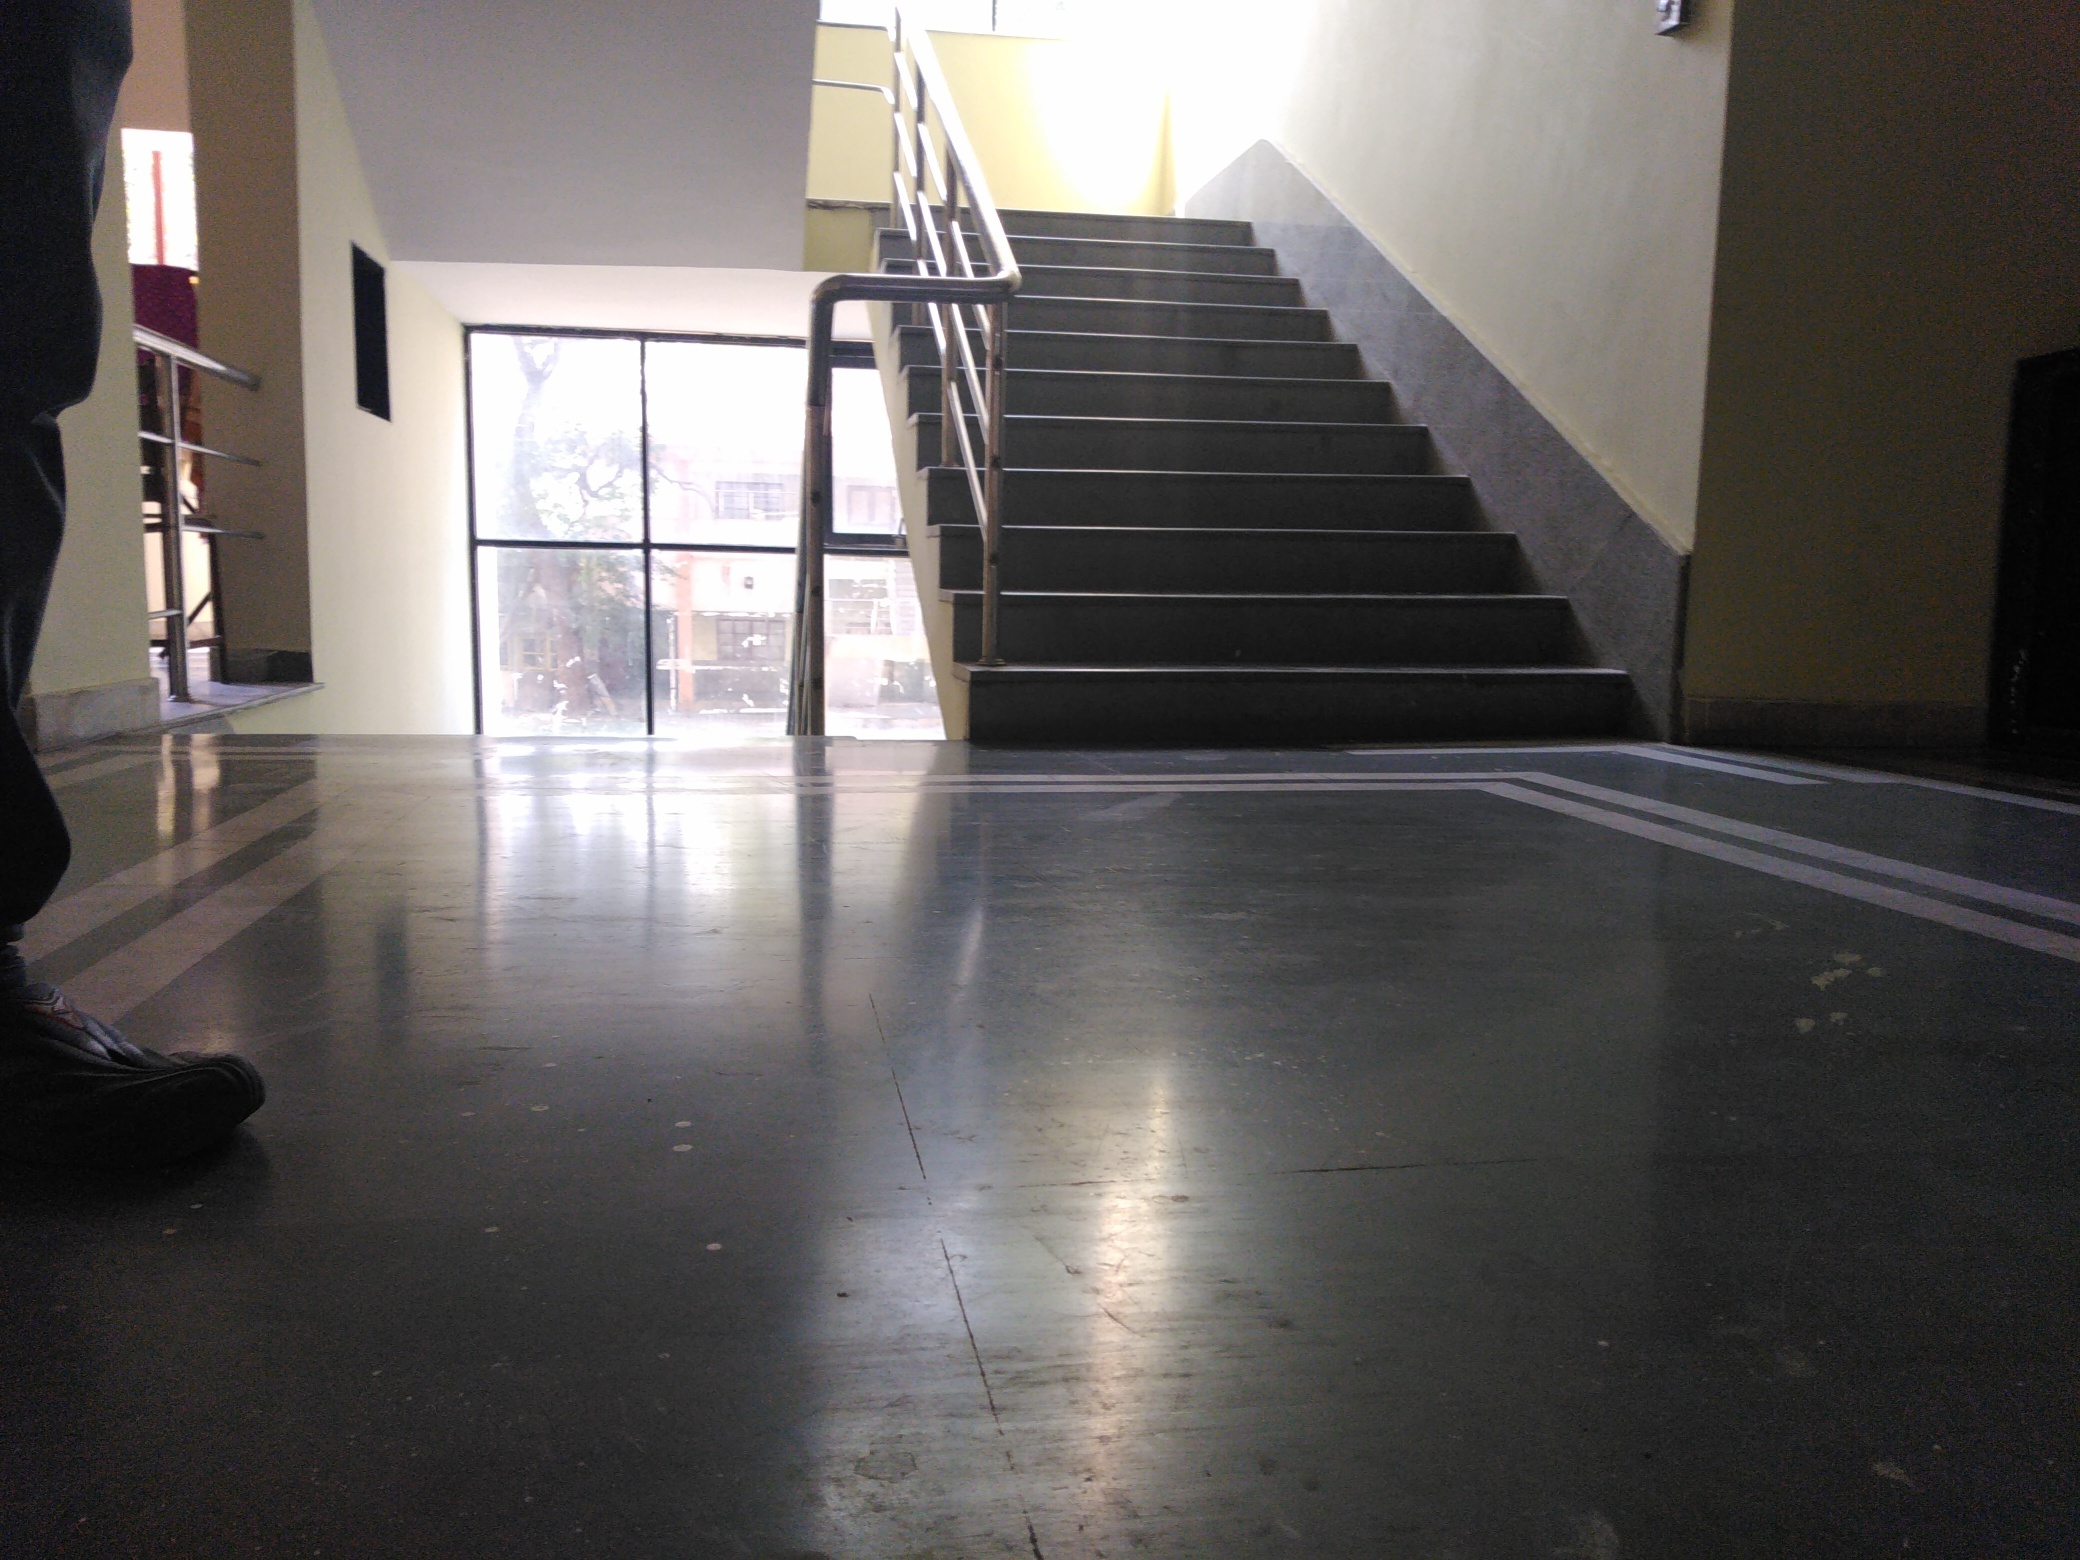stairs_up: (878, 197, 1649, 755)
